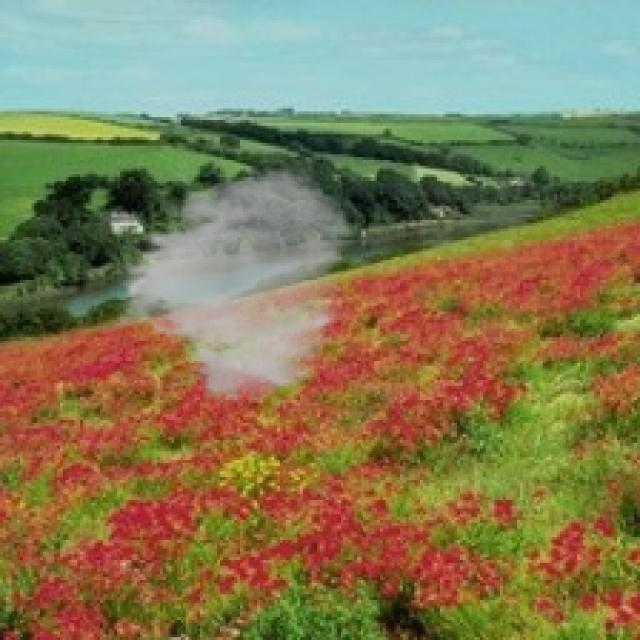smoke: (109, 166, 357, 406)
